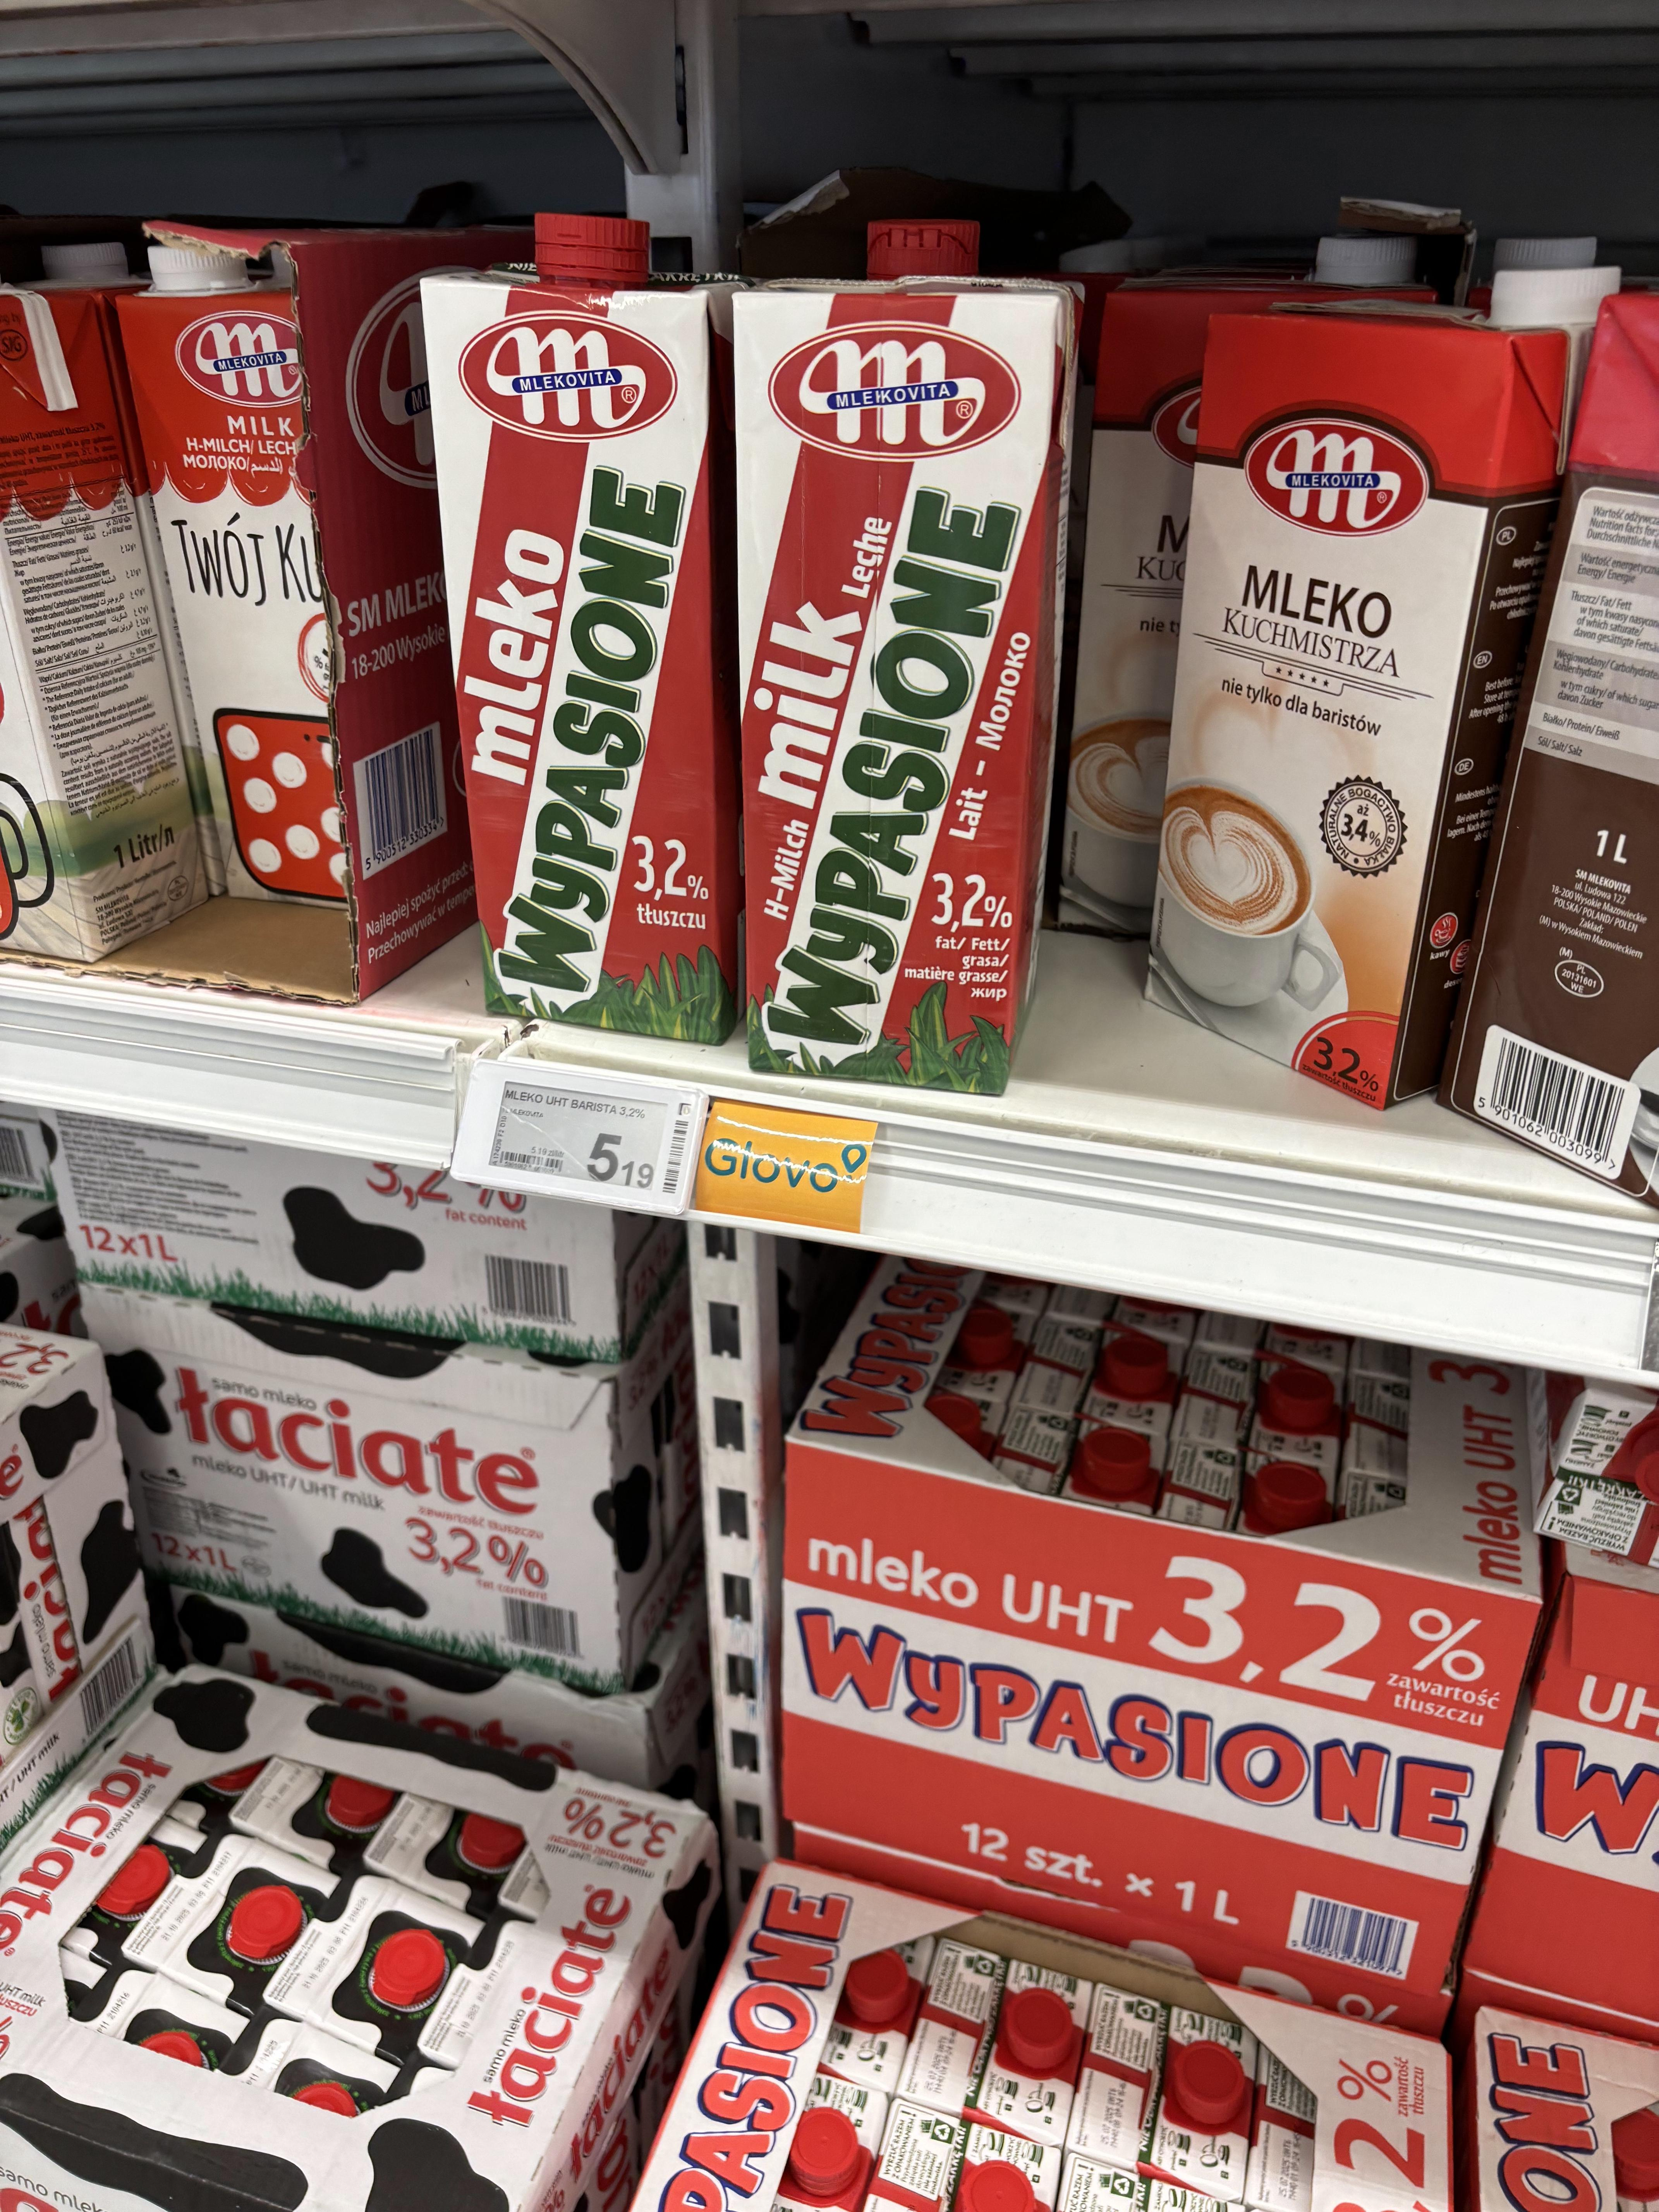Milk: (725, 282, 1040, 1059), (415, 260, 713, 1036)
